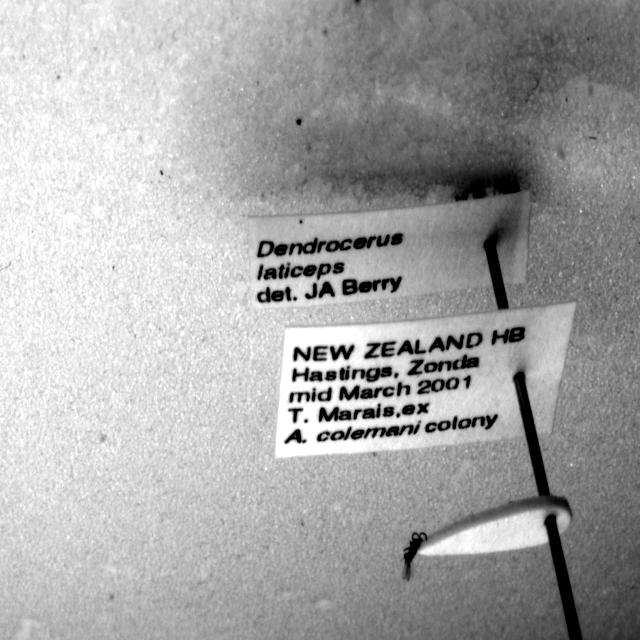typed_label: (276, 302, 575, 458), (249, 191, 530, 308)
